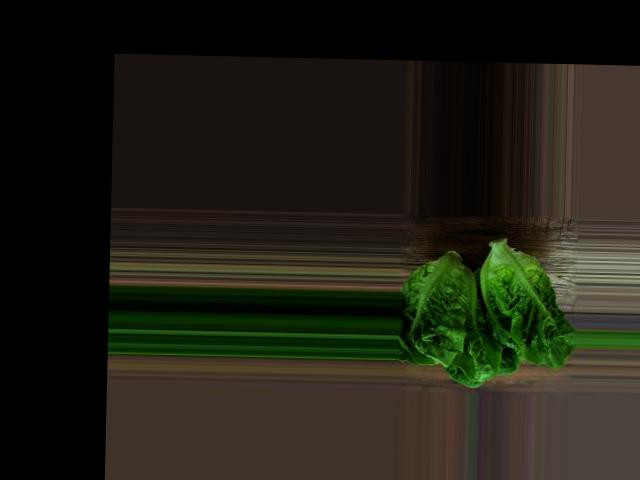lettuce: (399, 252, 560, 380)
